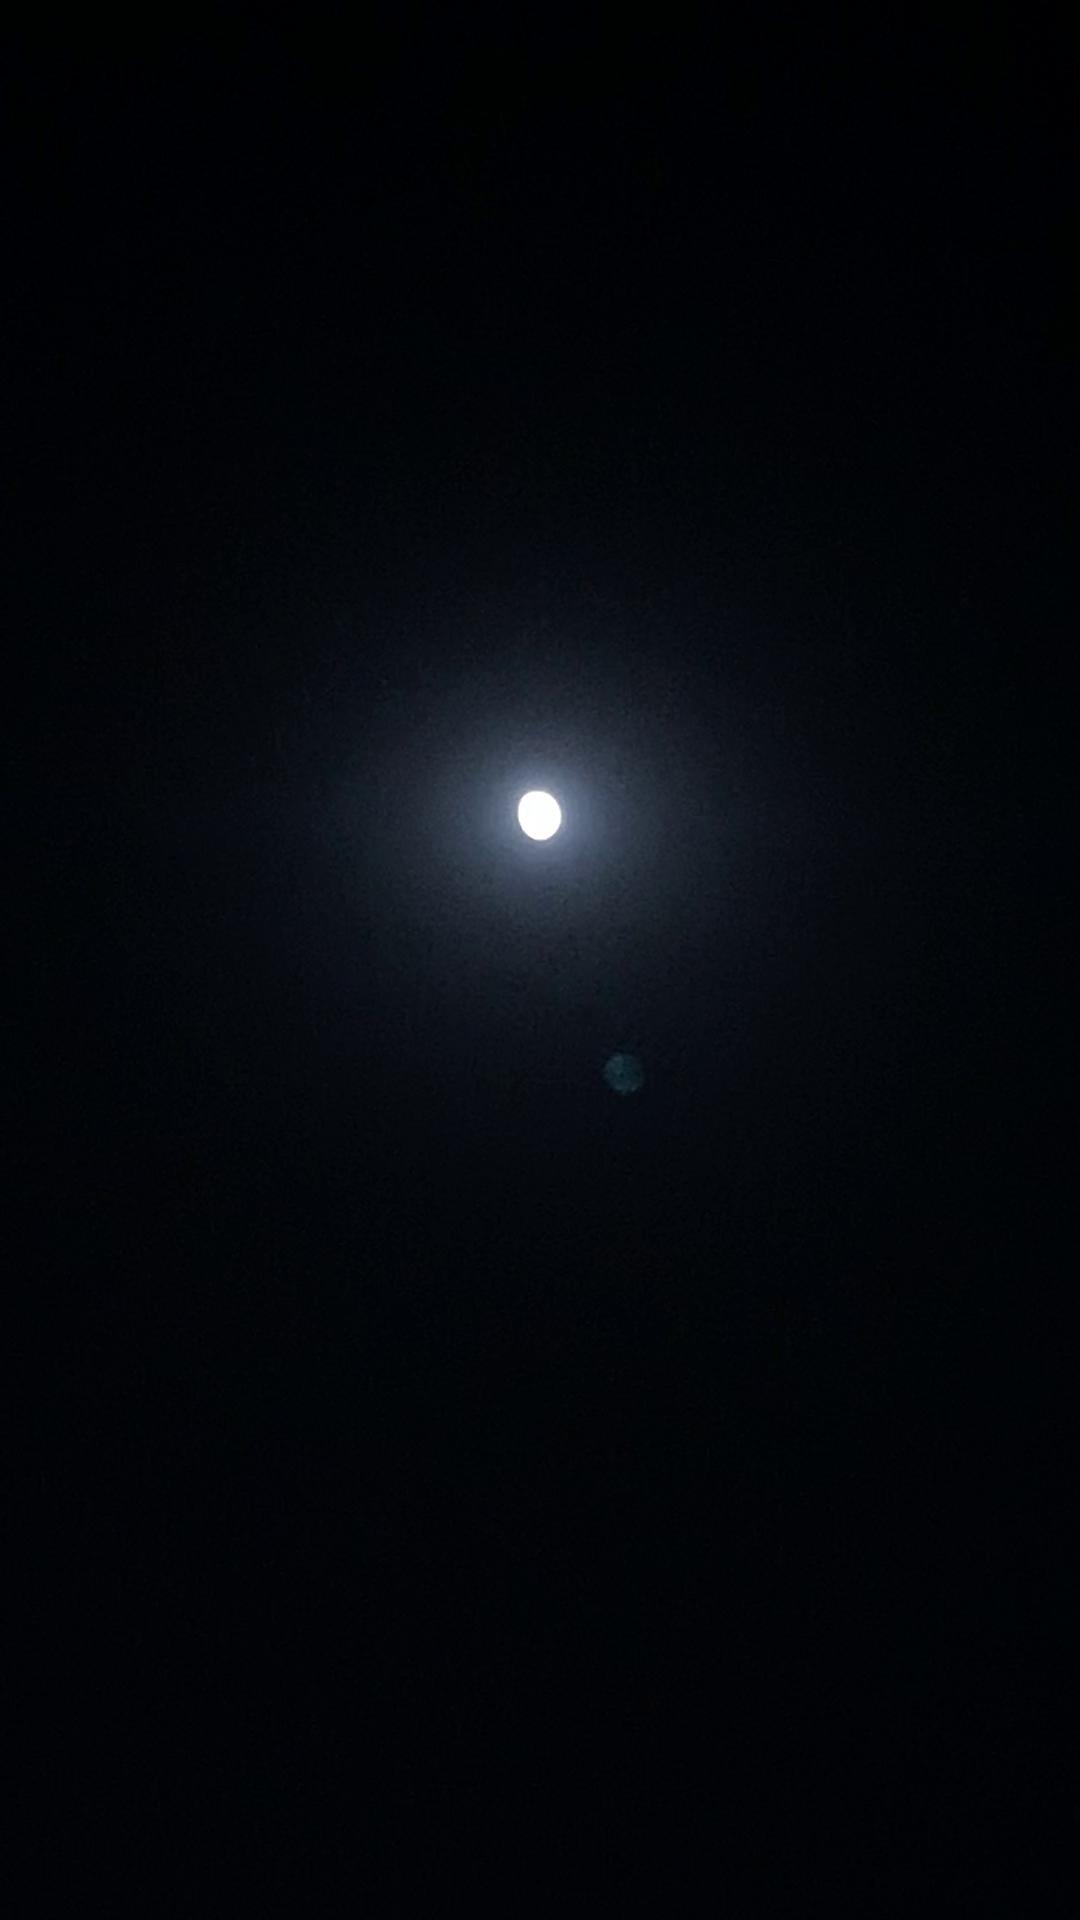moon: (496, 767, 583, 862)
